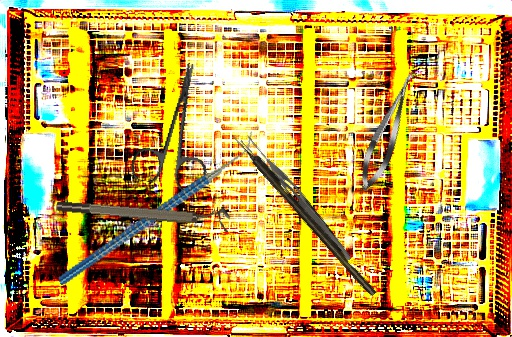Chopper: (34, 129, 278, 286)
Dressing Forceps: (236, 132, 359, 264)
Fixation Ring: (56, 191, 231, 232)
Hook Surgical: (230, 130, 378, 299)
Iris Scissors: (128, 55, 231, 195)
Micro Scissor: (352, 66, 425, 195)
